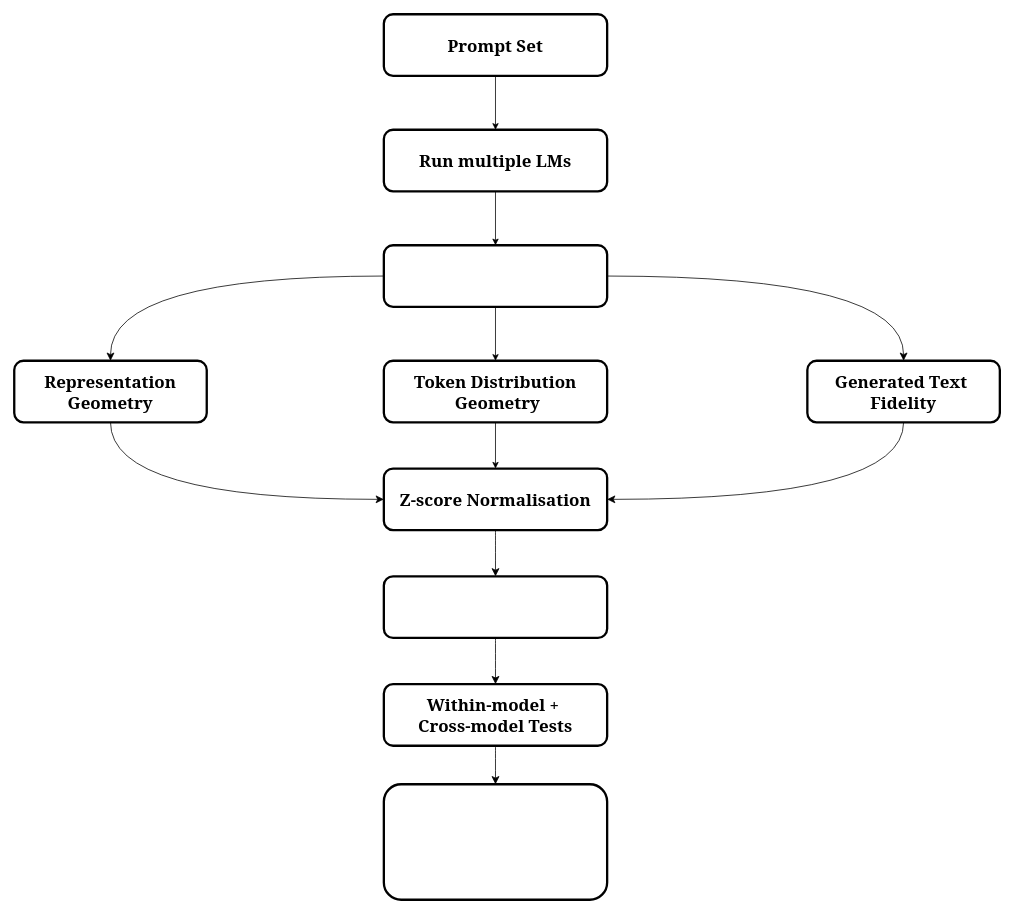
The diagram is 1014 pixels wide and 914 high, and some of its shapes have lost their labels. Here are the shapes that lost their labels. From the top down, the centre of each, then its label:
(x=495, y=276): Extract Signals
(x=495, y=607): PQS/PQS-F
(x=495, y=842): Conclusion: Internal geometry explains prompt transfer
